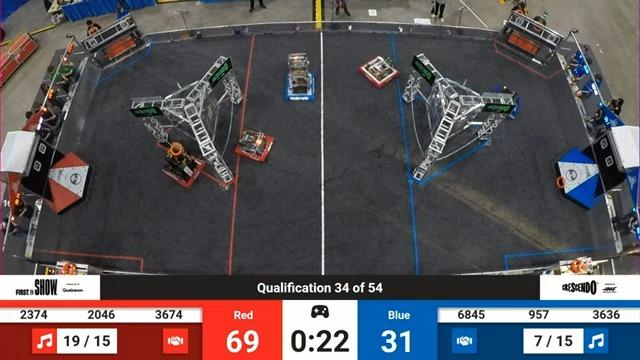robot: (153, 134, 213, 192), (275, 44, 322, 112), (232, 123, 281, 169), (357, 47, 397, 93), (486, 77, 522, 124)
